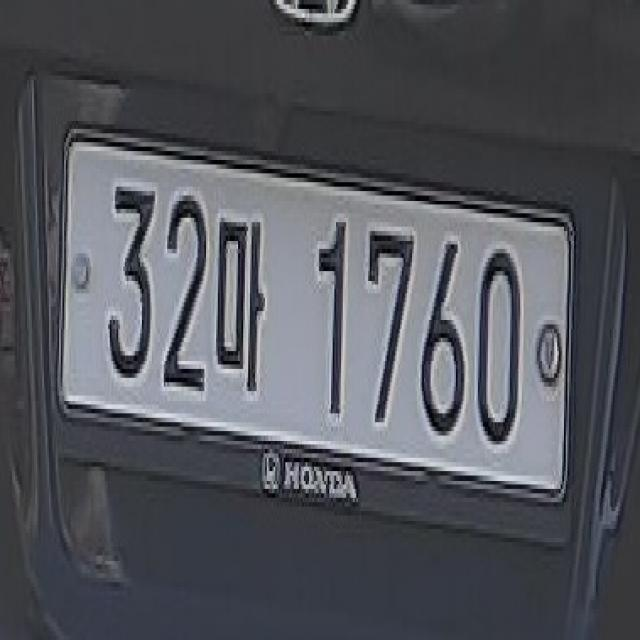0: (476, 235, 522, 458)
1: (316, 209, 350, 422)
2: (162, 187, 208, 400)
3: (108, 173, 155, 391)
6: (419, 231, 468, 436)
7: (361, 213, 417, 440)
license_plate: (59, 133, 573, 498)
ma: (213, 213, 267, 391)
